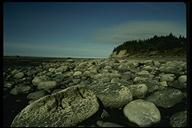sky: (7, 6, 106, 51)
stone: (3, 61, 188, 125)
tree: (128, 31, 186, 48)
